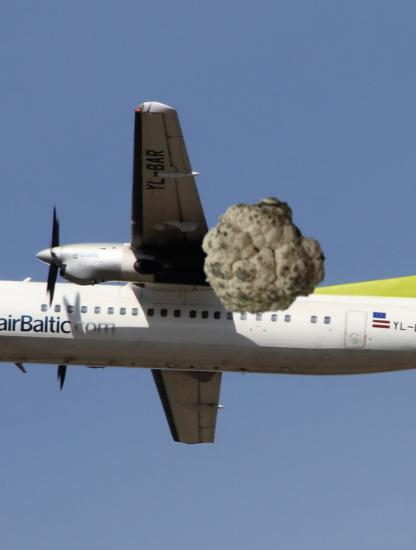Cauliflower: (200, 195, 323, 318)
